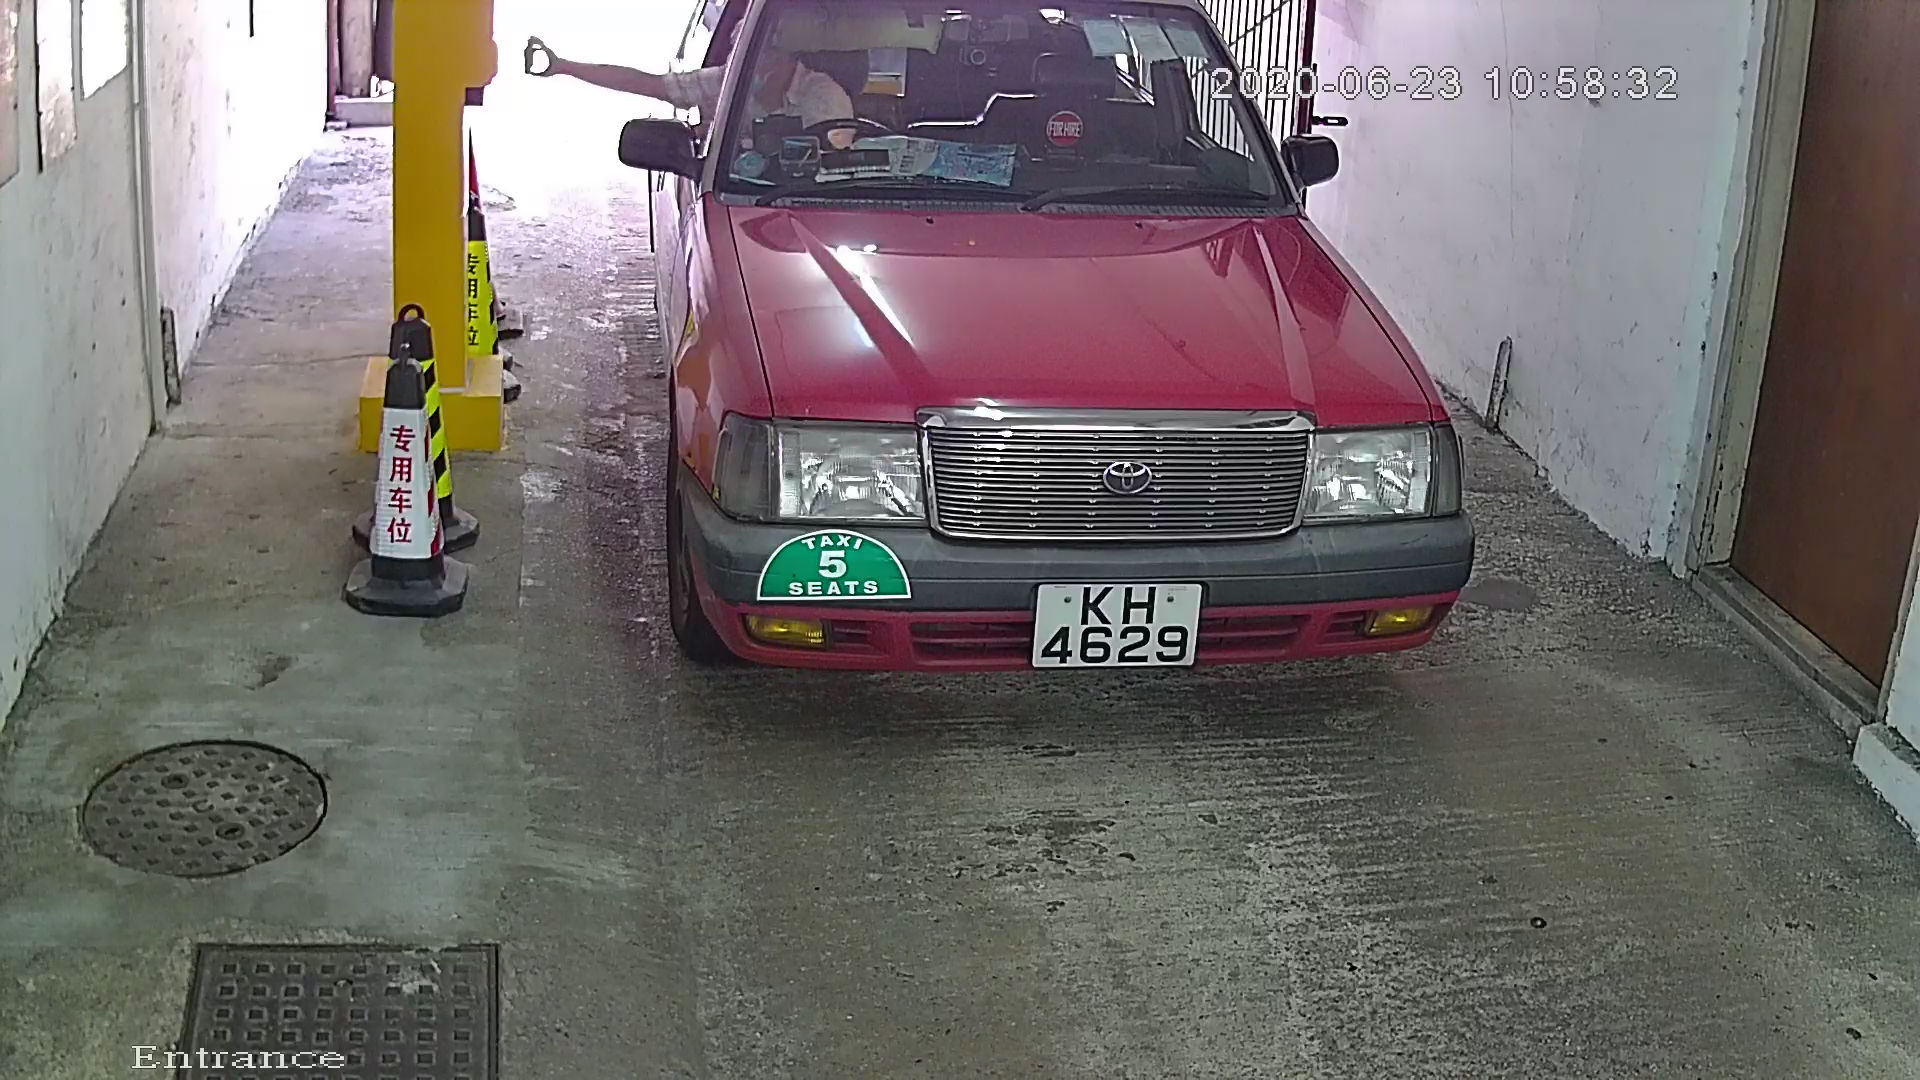taxi: (593, 3, 1556, 804)
taxi_mark: (731, 489, 947, 640)
